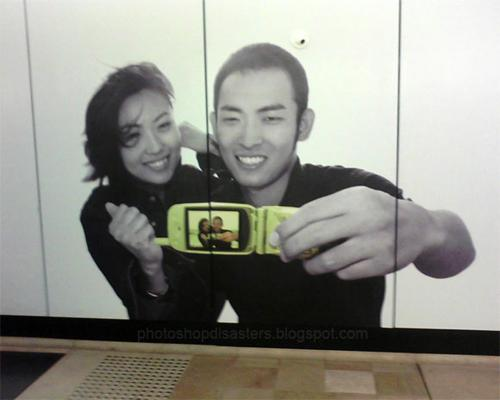person: (107, 43, 477, 334)
